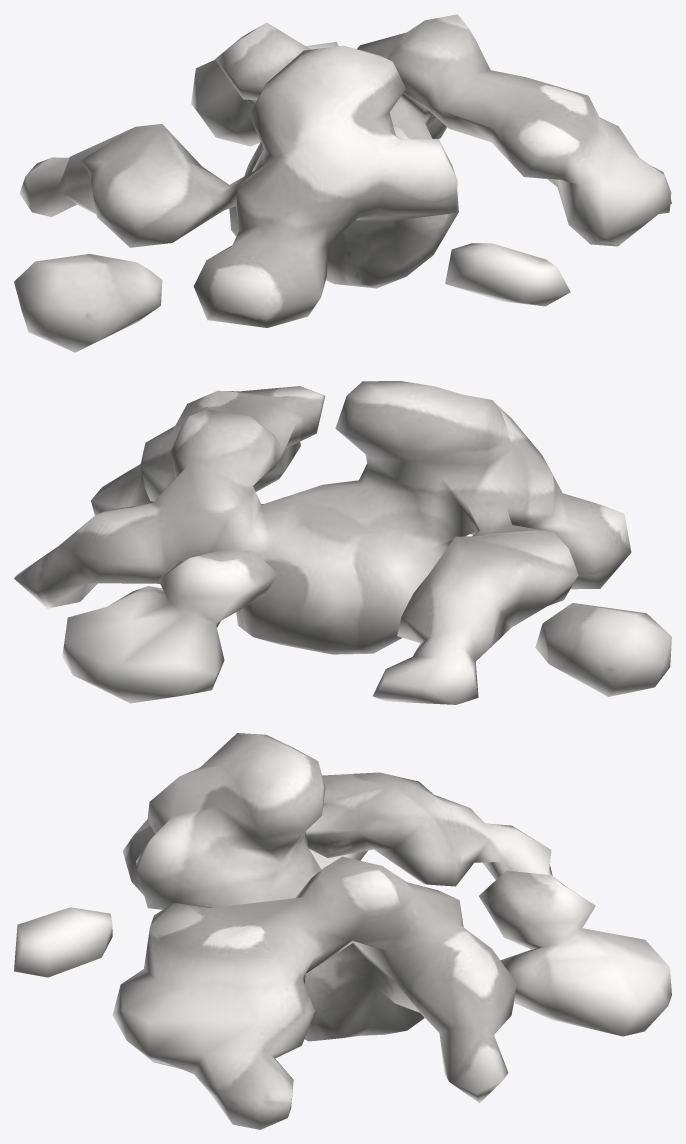
Rendered from snow_pile_a.glb.
3 renders of one model, top to bottom at view 1: azimuth 30°, elevation 25°; view 2: azimuth 150°, elevation 25°; view 3: azimuth 270°, elevation 25°, orthographic. The views are drawn at different scales.
Visible parts, largest first — view 1: prop_snow_pile_a_felt; view 2: prop_snow_pile_a_felt; view 3: prop_snow_pile_a_felt.
Boxes of the visible parts, bbox=[...] form: prop_snow_pile_a_felt: bbox=[14, 14, 671, 352]; prop_snow_pile_a_felt: bbox=[14, 381, 671, 704]; prop_snow_pile_a_felt: bbox=[14, 733, 671, 1129].
Bounding box in the file's own units: 2.29 × 0.8816 × 2.15.
Materials: 1 (1 with a texture image).
